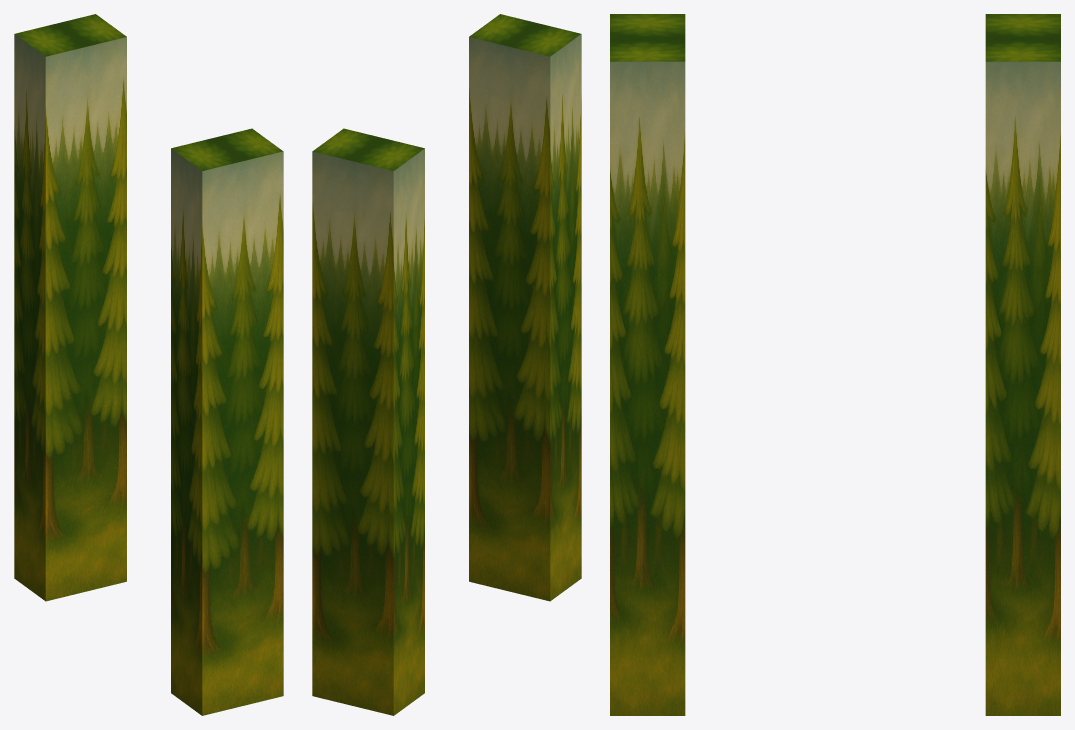
File: R_forest_door.fbx
3 views of the same model, side by side, from view 1: azimuth 30°, elevation 25°; view 2: azimuth 150°, elevation 25°; view 3: azimuth 270°, elevation 25° (orthographic). The views are drawn at different scales.
Visible parts, largest first — view 1: froest_wall_door.002; view 2: froest_wall_door.002; view 3: froest_wall_door.002.
Boxes of the visible parts, x1,y1,x2,y2 form: froest_wall_door.002: (14, 14, 283, 715); froest_wall_door.002: (312, 14, 581, 715); froest_wall_door.002: (610, 14, 1060, 715).
Bounding box in the file's own units: 50 × 320 × 200.
2 materials, 2 textured.
